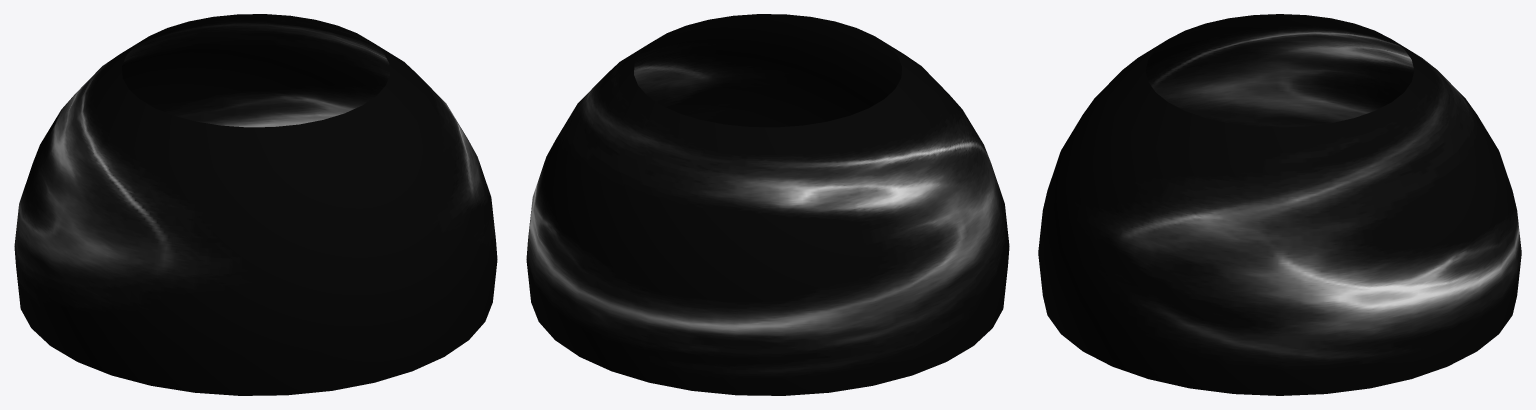
The picture shows the model from 3 angles, left to right: view 1: azimuth 30°, elevation 25°; view 2: azimuth 150°, elevation 25°; view 3: azimuth 270°, elevation 25°; orthographic projection.
Bounding box in the file's own units: 2.2 × 1.13 × 2.2.
1 material, 1 textured.
